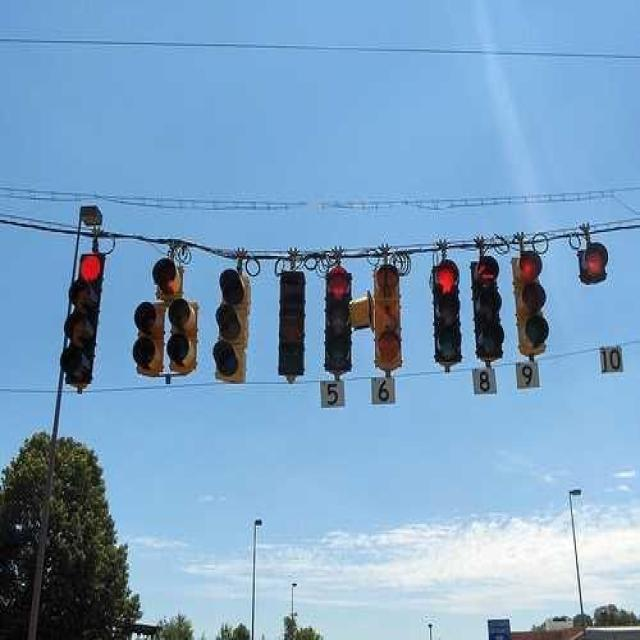Traffic Light -Red-: (123, 253, 207, 384), (55, 248, 108, 346), (466, 251, 508, 369), (509, 248, 552, 360), (319, 265, 357, 377), (430, 254, 465, 367), (576, 244, 614, 286)
